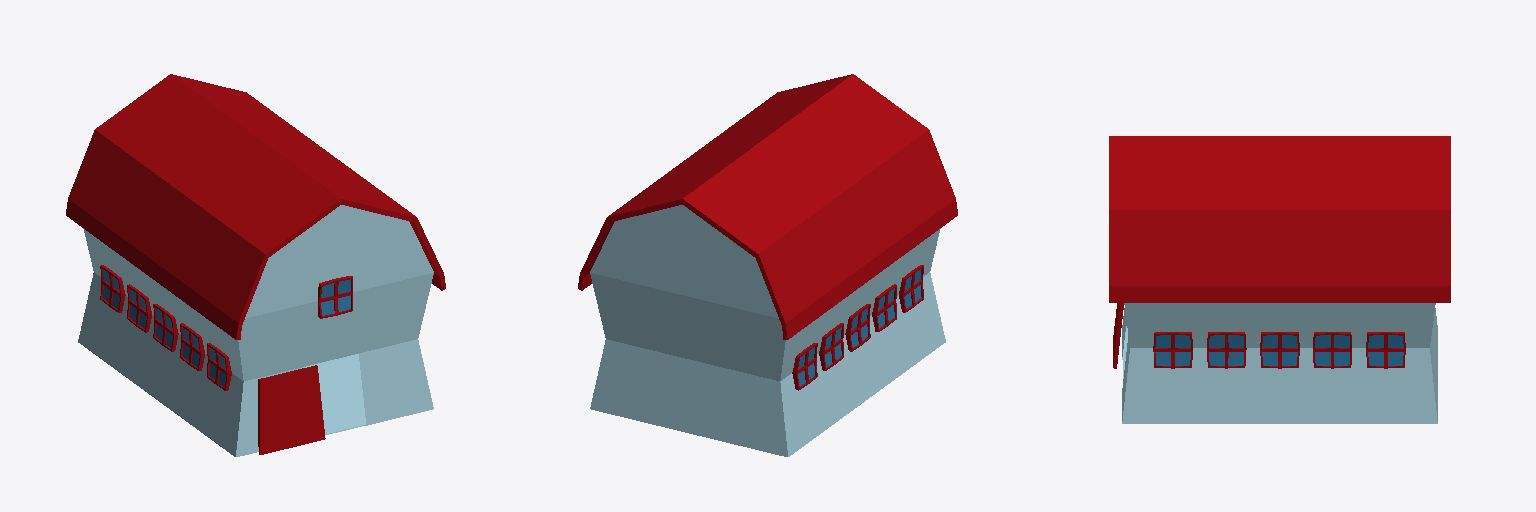
Rendered from Celeiro.obj.
The picture shows the model from 3 angles: view 1: azimuth 30°, elevation 25°; view 2: azimuth 150°, elevation 25°; view 3: azimuth 270°, elevation 25°; orthographic projection.
Parts seen in each view (by area): view 1: Celeiro; view 2: Celeiro; view 3: Celeiro.
Part boxes in pixels (bbox=[...]): Celeiro: bbox=[66, 74, 445, 456]; Celeiro: bbox=[578, 74, 957, 456]; Celeiro: bbox=[1109, 136, 1450, 423].
Size of the model in its own units: 130 by 141 by 182.